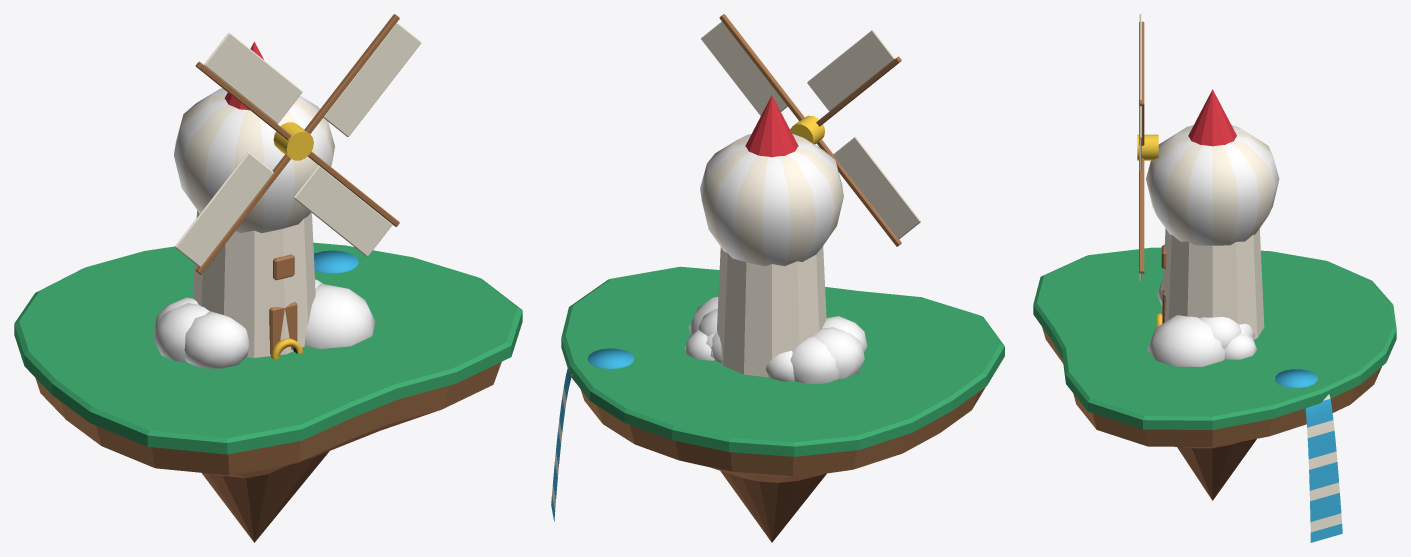
File: kit.glb
3 renders of one model, left to right at view 1: azimuth 30°, elevation 25°; view 2: azimuth 150°, elevation 25°; view 3: azimuth 270°, elevation 25°, orthographic. The views are drawn at different scales.
Visible parts, largest first — view 1: islet_l, windmill_sails, balloon, windmill, islet_m, cloud_b, cloud_c, cloud_a; view 2: islet_l, balloon, windmill, windmill_sails, islet_m, cloud_c, cloud_a, cloud_b; view 3: islet_l, balloon, windmill, cloud_b, windmill_sails, islet_m, cloud_c, cloud_a, islet_s.
Boxes of the visible parts, box(x1,y1,x2,y2) form: islet_l: box(14, 242, 522, 542); windmill_sails: box(175, 14, 421, 274); balloon: box(174, 88, 334, 233); windmill: box(193, 41, 315, 357); islet_m: box(106, 270, 391, 405); cloud_b: box(304, 283, 375, 348); cloud_c: box(153, 279, 322, 368); cloud_a: box(154, 303, 209, 362); islet_l: box(551, 266, 1004, 542); balloon: box(700, 134, 843, 266); windmill: box(717, 95, 826, 377); windmill_sails: box(701, 14, 920, 246); islet_m: box(614, 320, 918, 405); cloud_c: box(697, 308, 867, 384); cloud_a: box(684, 327, 864, 379); cloud_b: box(688, 297, 722, 363); islet_l: box(1033, 247, 1396, 542); balloon: box(1146, 125, 1279, 245); windmill: box(1161, 89, 1264, 339); cloud_b: box(1147, 315, 1255, 366); windmill_sails: box(1137, 14, 1158, 281); islet_m: box(1086, 276, 1330, 372); cloud_c: box(1157, 279, 1241, 349); cloud_a: box(1224, 327, 1257, 359); islet_s: box(1254, 321, 1280, 351).
Bounding box in the file's own units: 9.46 × 11.76 × 8.44.
